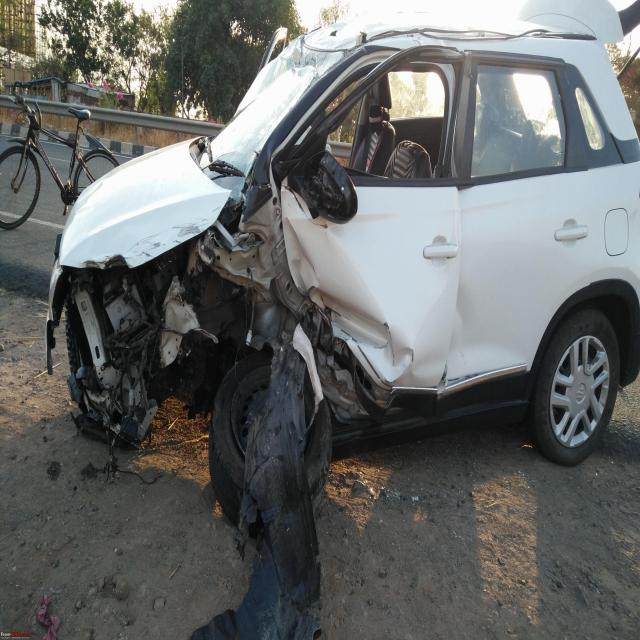accident: (45, 0, 640, 638)
bicycle: (0, 96, 119, 229)
